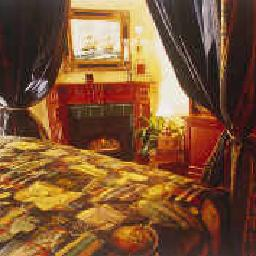Cama: (7, 139, 225, 247)
